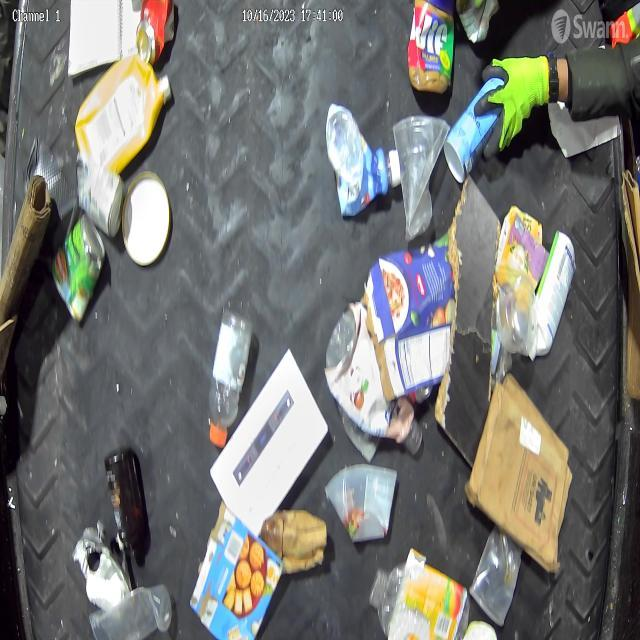can: (50, 221, 107, 327), (405, 0, 461, 104)
plastic_bottle: (204, 302, 252, 460)
